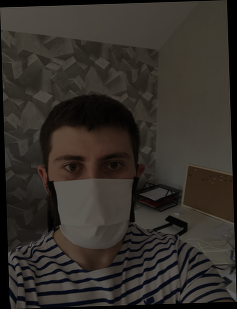with_mask: (46, 143, 137, 249)
